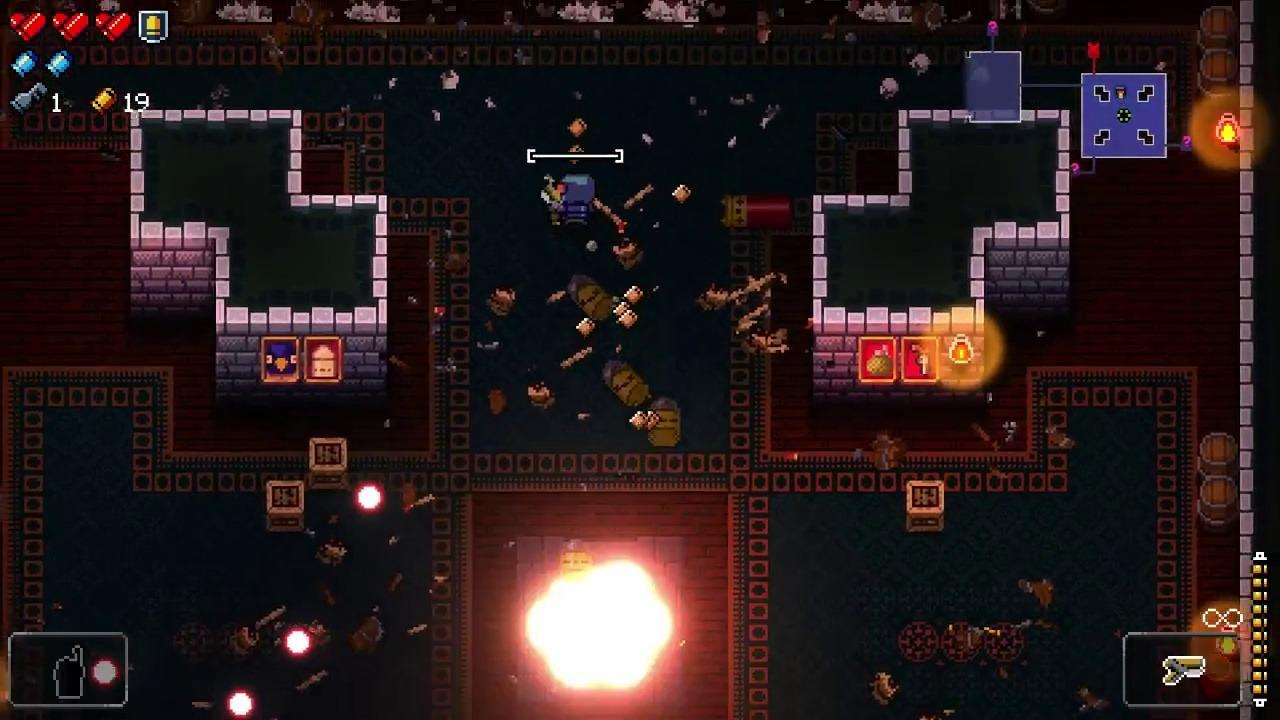bullet: (225, 687, 255, 720), (356, 483, 385, 513), (91, 656, 118, 688), (285, 628, 311, 658)
bullet_kin: (566, 272, 616, 323)
dead_bullet_kin: (601, 358, 653, 408), (649, 394, 682, 449)
dead_red_shotgun_kin: (718, 193, 795, 231)
player: (557, 173, 596, 228)
